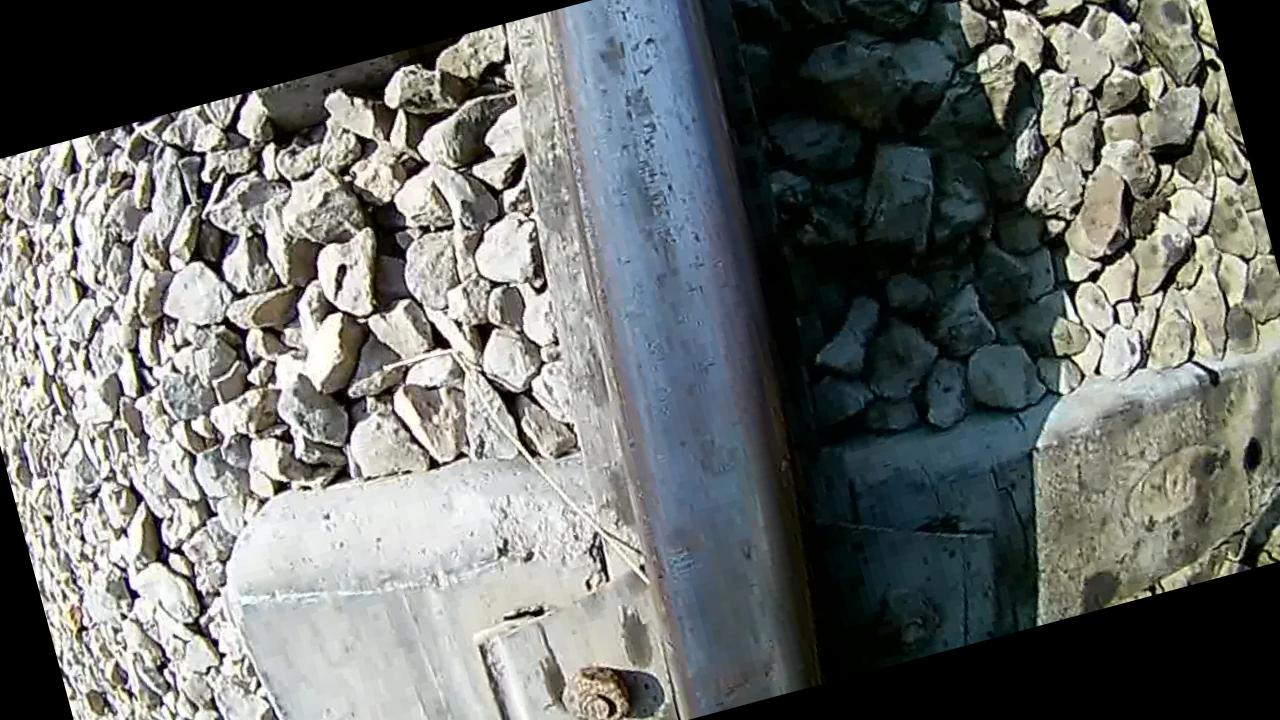crack: (497, 0, 880, 720)
